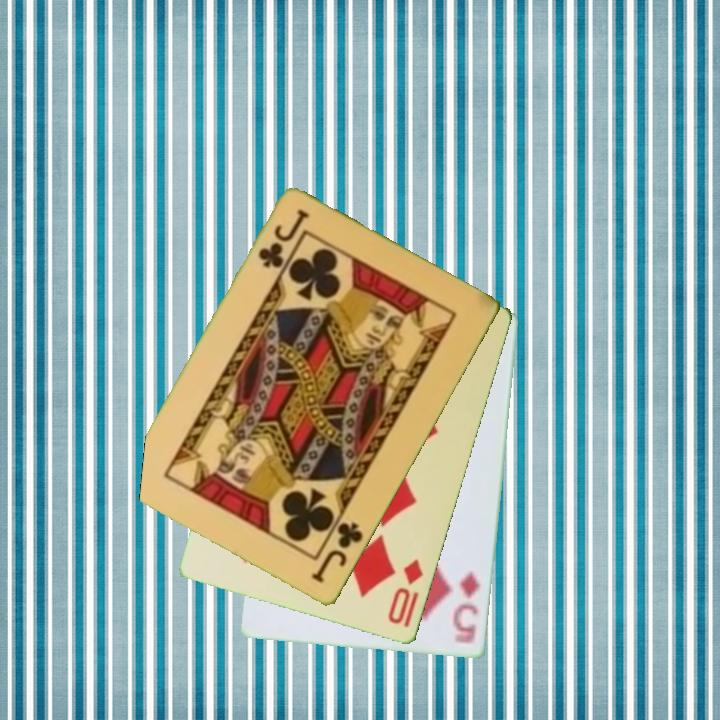10d: (384, 556, 426, 628)
5d: (450, 568, 484, 648)
Jc: (308, 519, 367, 587), (254, 206, 312, 272)
